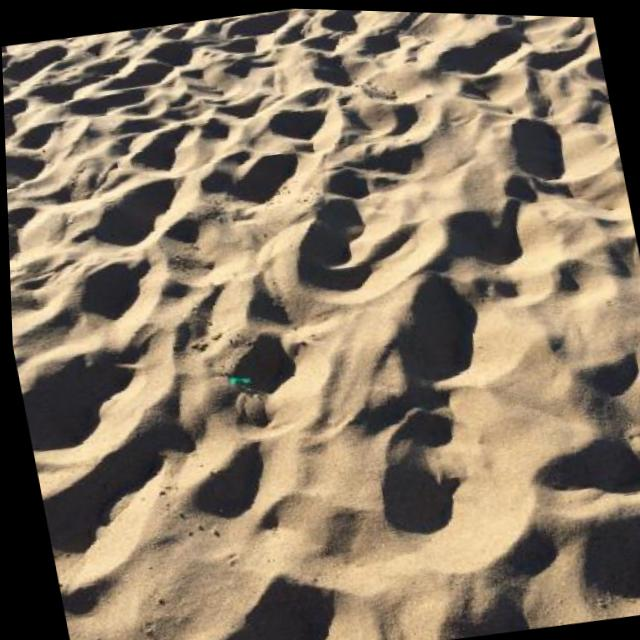other: (229, 374, 252, 389)
